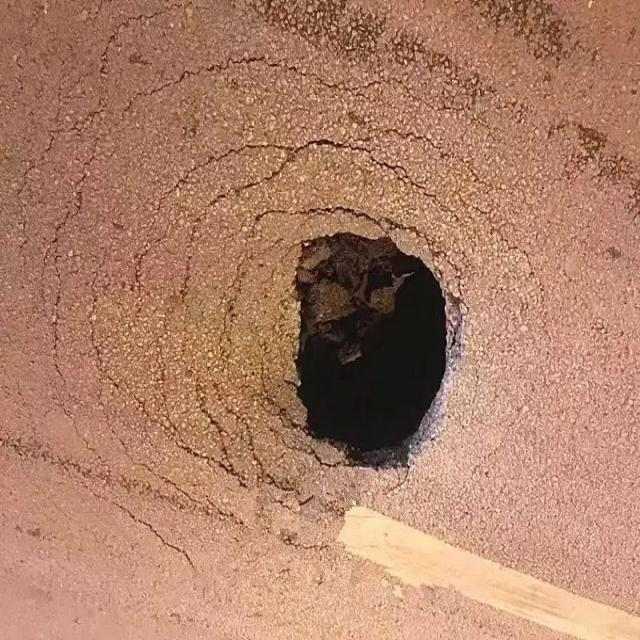Pothole: (260, 205, 461, 488)
